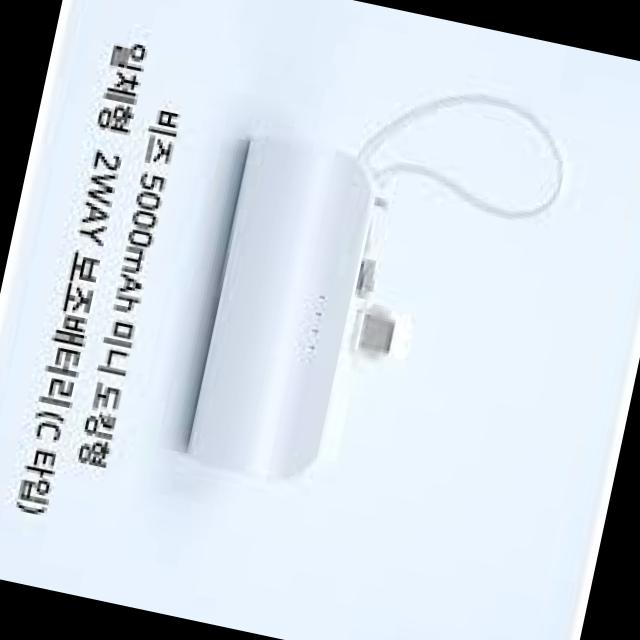power_bank: (174, 124, 438, 506)
